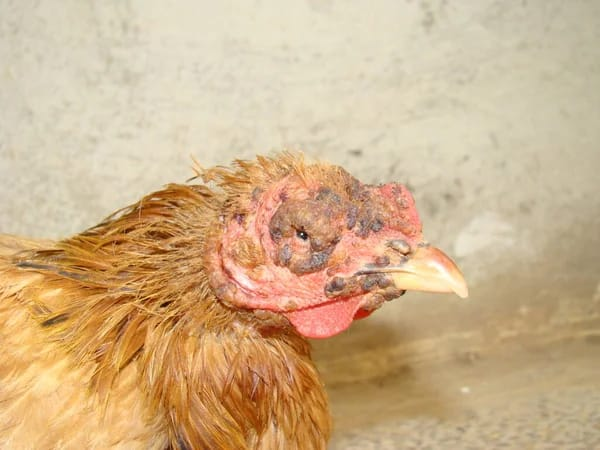Unhealthy: (52, 127, 490, 431)
